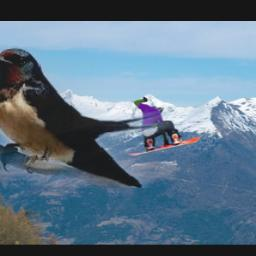Swallow: (0, 46, 224, 188)
